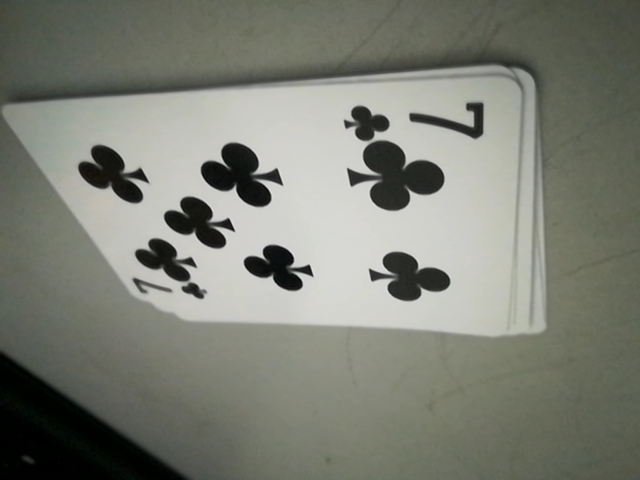mh 7: (342, 92, 495, 142), (124, 267, 204, 308)
